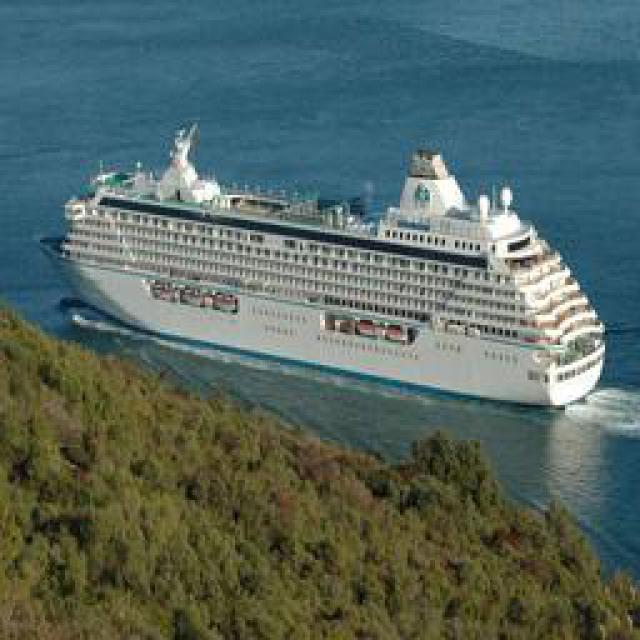Ship: (55, 127, 603, 415)
